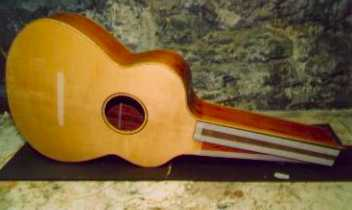guitar: (6, 13, 343, 172)
